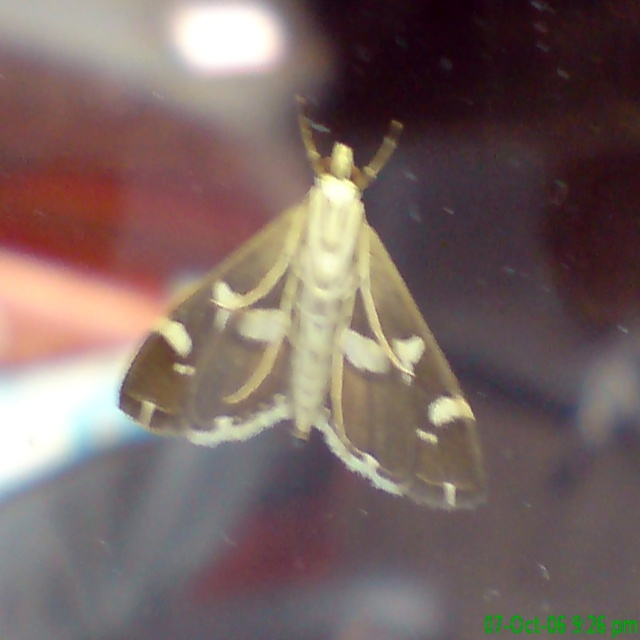Moths and butterflies: (114, 92, 488, 518)
